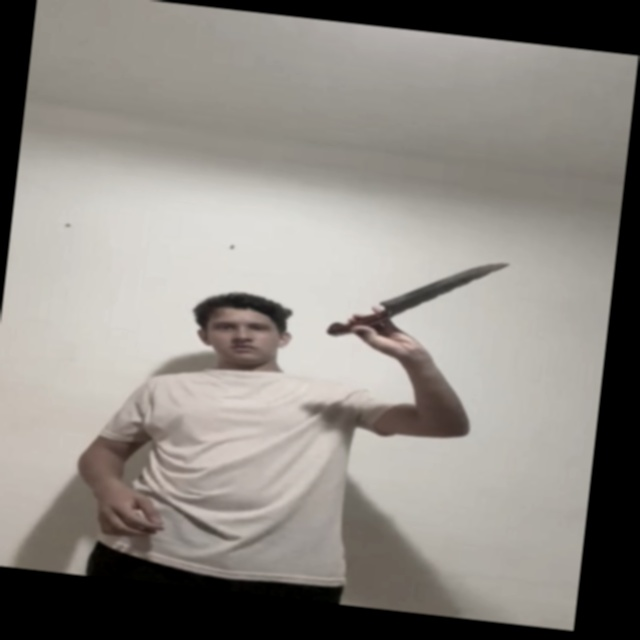Sharp-Object: (376, 249, 508, 321)
